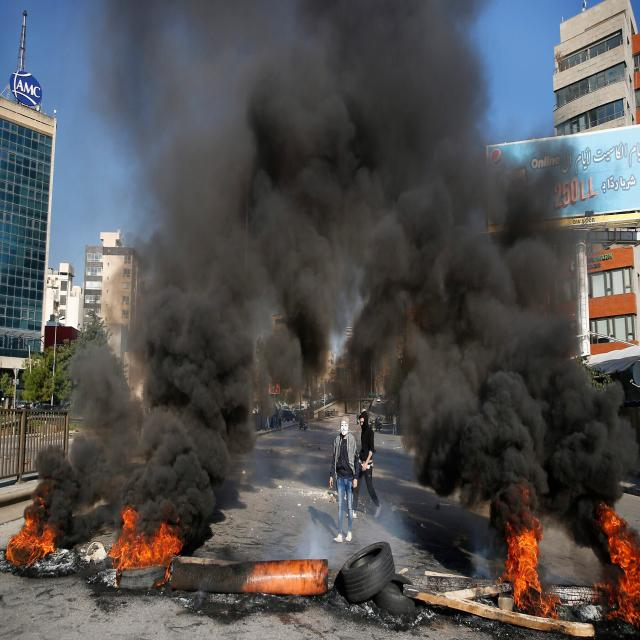fire: (603, 503, 640, 626), (109, 523, 182, 565), (505, 529, 541, 609), (6, 517, 54, 567)
